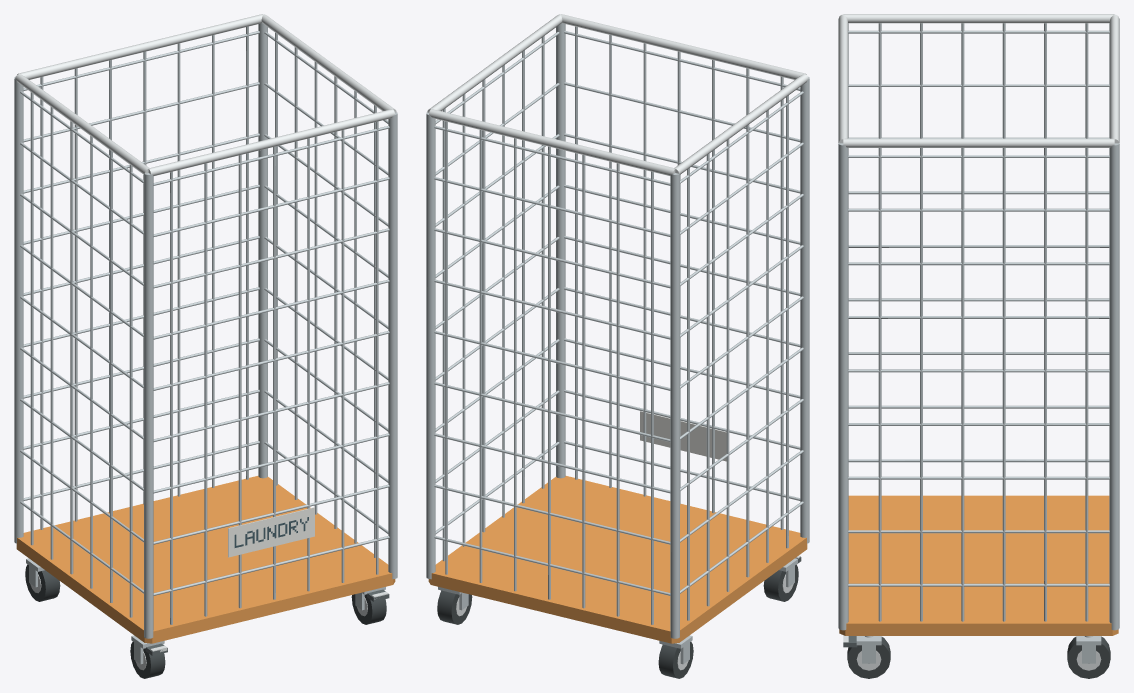
File: cageCart.glb
The picture shows the model from 3 angles, left to right: view 1: azimuth 30°, elevation 25°; view 2: azimuth 150°, elevation 25°; view 3: azimuth 270°, elevation 25°; orthographic projection. The views are drawn at different scales.
Parts seen in each view (by area): view 1: Galler-tvättvagn; view 2: Galler-tvättvagn; view 3: Galler-tvättvagn.
Boxes of the visible parts, x1=… form: Galler-tvättvagn: x1=14, y1=14, x2=397, y2=678; Galler-tvättvagn: x1=426, y1=14, x2=809, y2=678; Galler-tvättvagn: x1=838, y1=14, x2=1119, y2=678.
Size of the model in its own units: 0.7727 by 1.52 by 0.714.
